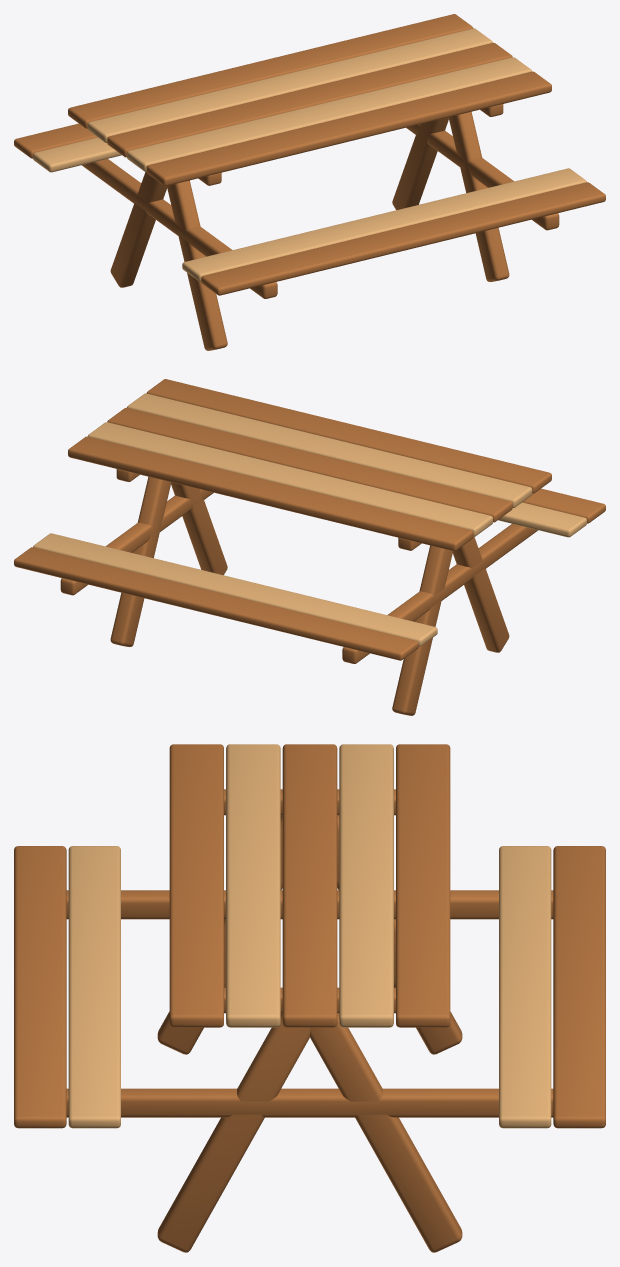
The model's file is mesa_piquenique_madeira.glb.
The picture shows the model from 3 angles, top to bottom: view 1: azimuth 30°, elevation 25°; view 2: azimuth 150°, elevation 25°; view 3: azimuth 270°, elevation 25°; orthographic projection. The views are drawn at different scales.
Visible parts, largest first — view 1: mesa_piquenique_madeira; view 2: mesa_piquenique_madeira; view 3: mesa_piquenique_madeira.
Part boxes in pixels (x1,y1,x2,y2): mesa_piquenique_madeira: (14,14,605,350); mesa_piquenique_madeira: (14,379,605,715); mesa_piquenique_madeira: (14,744,605,1252).
Bounding box in the file's own units: 1.6 × 0.74 × 1.47.
Materials: 1 (1 with a texture image).
